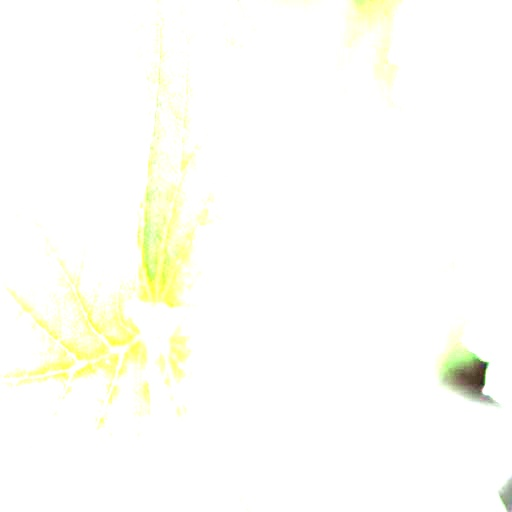Powdery Mildew Leaf: (31, 0, 314, 311), (147, 244, 416, 511)
